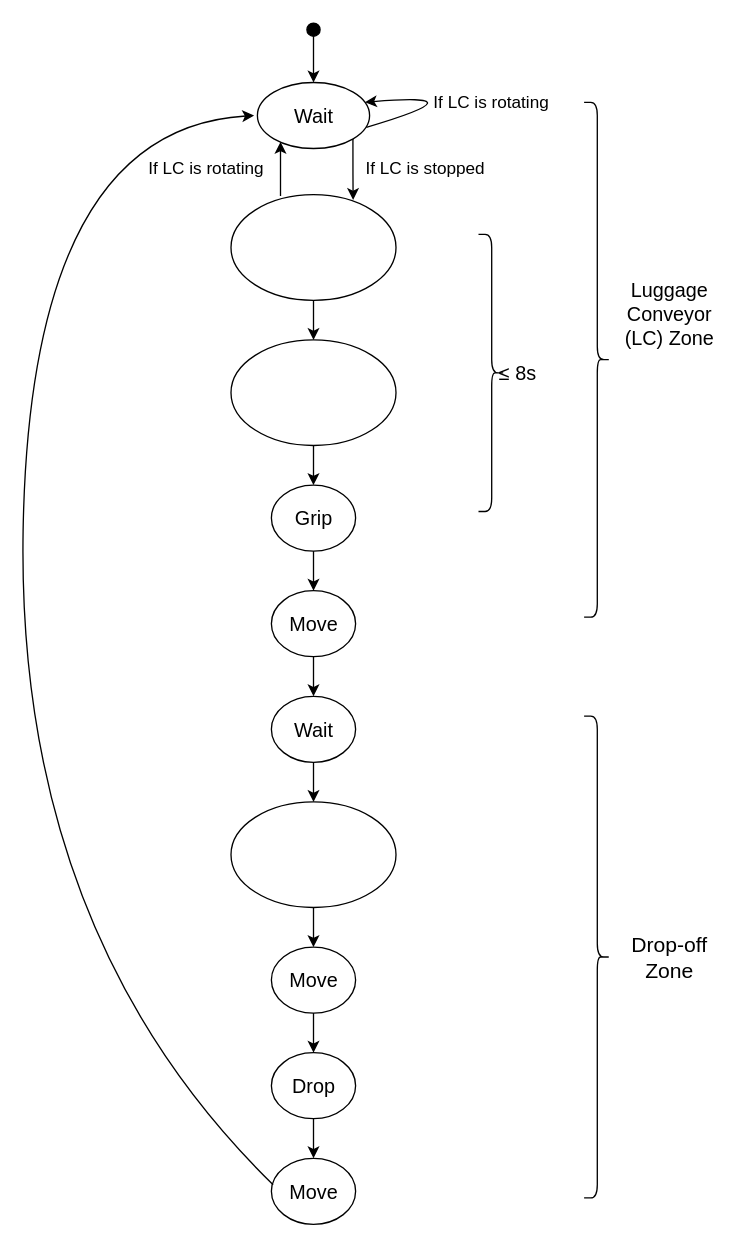
This 752x1247 diagram has some shape labels left out. Here are the shapes that lost their labels. From the top down, the box of each, then its label:
(230, 193, 396, 300): Identify Blocks (shape, location, colour)
(230, 339, 396, 446): Adjust arm's orientation
(230, 801, 396, 908): Analyse ArUco tags
